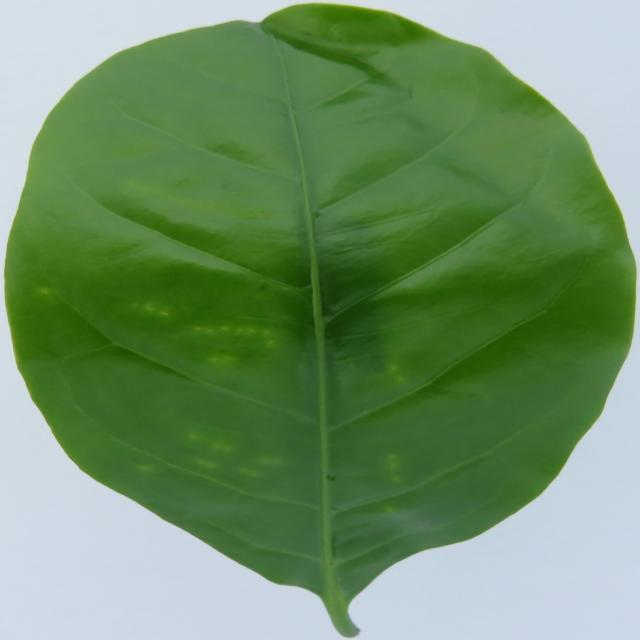DeficienciaNutricional-Boro: (7, 4, 635, 636)
